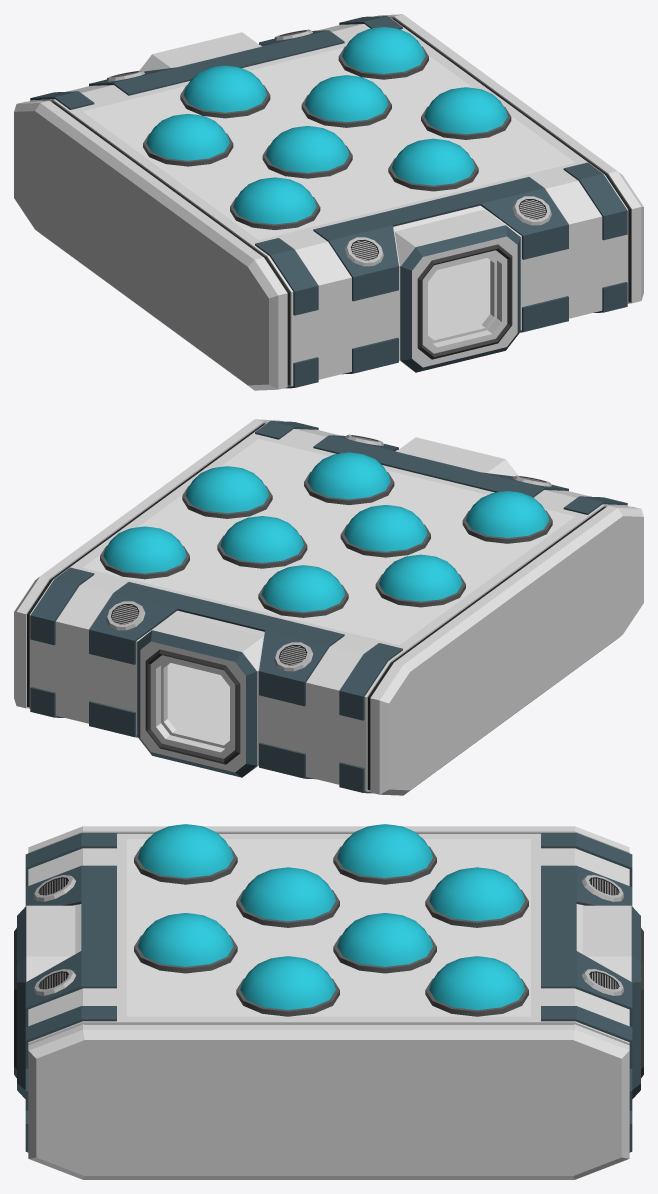
File: section_005.fbx
The picture shows the model from 3 angles, top to bottom: view 1: azimuth 30°, elevation 25°; view 2: azimuth 150°, elevation 25°; view 3: azimuth 270°, elevation 25°; orthographic projection. The views are drawn at different scales.
Visible parts, largest first — view 1: section_005; view 2: section_005; view 3: section_005.
Boxes of the visible parts, x1,y1,x2,y2 form: section_005: [14, 14, 643, 390]; section_005: [14, 419, 643, 795]; section_005: [14, 824, 643, 1179].
Size of the model in its own units: 1200 by 1521 by 493.
